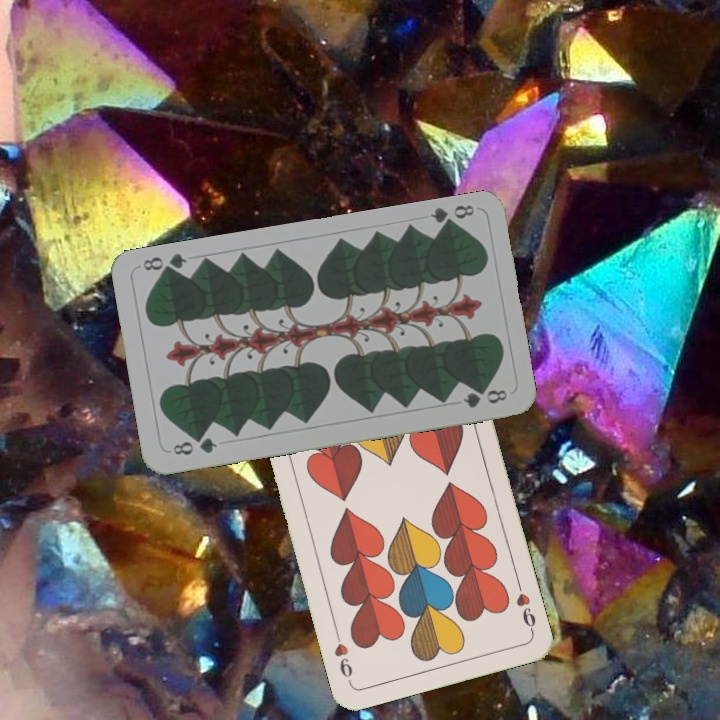G8: (426, 200, 477, 232), (168, 433, 220, 458)
H9: (512, 577, 539, 635)
